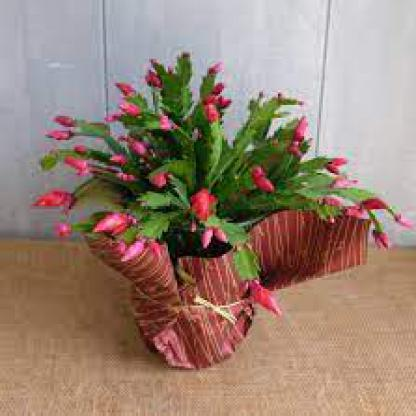Aglonema: (29, 213, 258, 386), (230, 12, 325, 89)
